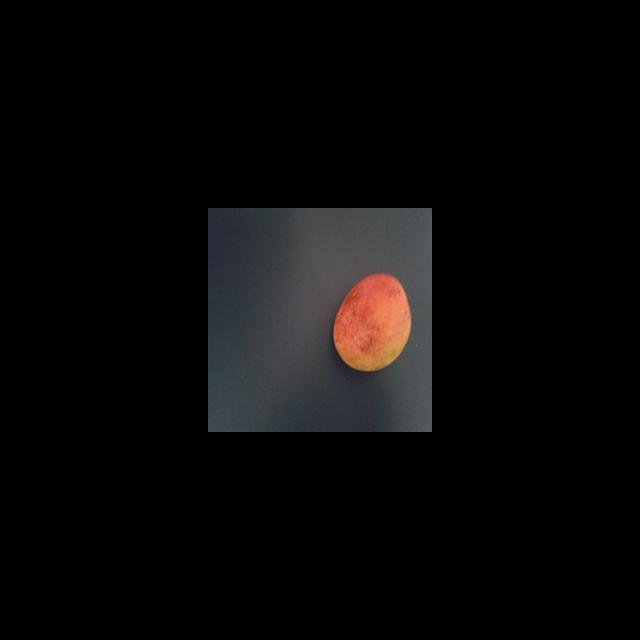Mango: (332, 272, 412, 372)
